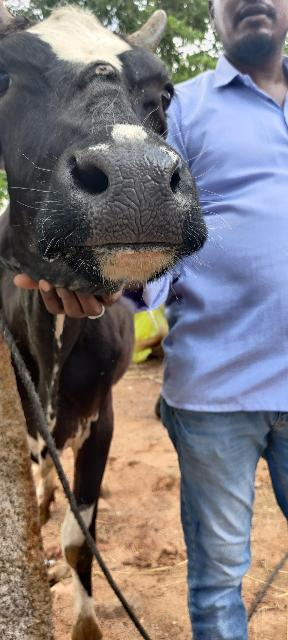Muzzle: (88, 151, 180, 241)
